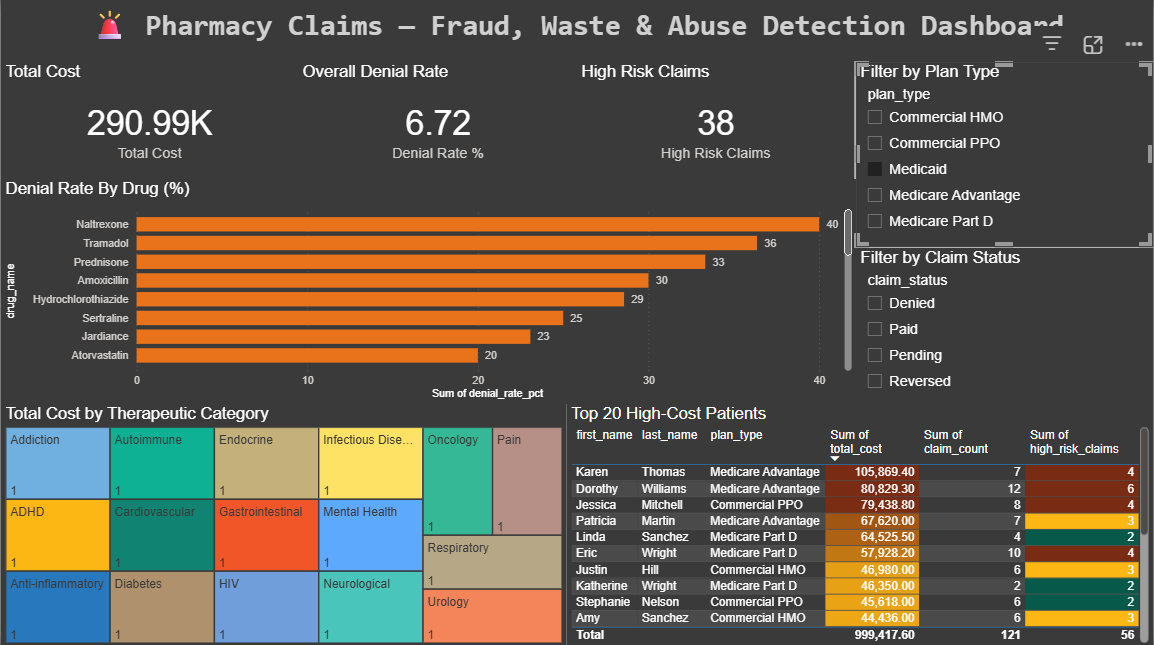

The page's visual inventory and layout, read from the dashboard file:
{"tool":"powerbi","page":{"name":"FWA Detection","canvas":[1280,720],"ordinal":0},"visuals":[{"type":"clusteredBarChart","title":"Denial Rate By Drug (%)","fields":{"Category":["report_denial_analysis.drug_name"],"Y":["Sum(report_denial_analysis.denial_rate_pct)"]},"box":[0,200,950,250],"z":0},{"type":"card","title":"Total Cost","fields":{"Values":["cost_by_plan_category.Total Cost"]},"box":[0,70.3,329.7,129.7],"z":1000},{"type":"slicer","title":"Filter by Plan Type","fields":{"Values":["patients.plan_type"]},"box":[950,70.3,329.7,204.7],"z":5000},{"type":"textbox","box":[0,0,1280,70],"z":7000},{"type":"card","title":"Overall Denial Rate","fields":{"Values":["pharmacy_claims.Denial Rate %"]},"box":[329.7,70.3,310.9,129.7],"z":8000},{"type":"card","title":"High Risk Claims","fields":{"Values":["cost_by_plan_category.High Risk Claims"]},"box":[640.6,70.3,307.8,129.7],"z":9000},{"type":"slicer","title":"Filter by Claim Status","fields":{"Values":["pharmacy_claims.claim_status"]},"box":[950,276.6,329.7,173.4],"z":10000},{"type":"treemap","title":"Total Cost by Therapeutic Category","fields":{"Group":["report_cost_by_category.therapeutic_category"],"Values":["CountNonNull(report_cost_by_category.total_cost)"]},"box":[0,450,628.1,270.3],"z":10001},{"type":"tableEx","title":"Top 20 High-Cost Patients","fields":{"Values":["report_top20_patients.first_name","report_top20_patients.last_name","report_top20_patients.plan_type","Sum(report_top20_patients.total_cost)","Sum(report_top20_patients.claim_count)","Sum(report_top20_patients.high_risk_claims)"]},"box":[628.1,450,651.6,270.3],"z":10002}]}

Visuals, with their boxes in screenshot pixels (x1, y1, x2, y2), scaled from the page's 1280x720 canvas onto the 1154x645 screenshot:
"Denial Rate By Drug (%)" clusteredBarChart: x1=0, y1=179, x2=856, y2=403
"Total Cost" card: x1=0, y1=63, x2=297, y2=179
"Filter by Plan Type" slicer: x1=856, y1=63, x2=1153, y2=246
textbox: x1=0, y1=0, x2=1153, y2=63
"Overall Denial Rate" card: x1=297, y1=63, x2=578, y2=179
"High Risk Claims" card: x1=578, y1=63, x2=855, y2=179
"Filter by Claim Status" slicer: x1=856, y1=248, x2=1153, y2=403
"Total Cost by Therapeutic Category" treemap: x1=0, y1=403, x2=566, y2=644
"Top 20 High-Cost Patients" tableEx: x1=566, y1=403, x2=1153, y2=644
